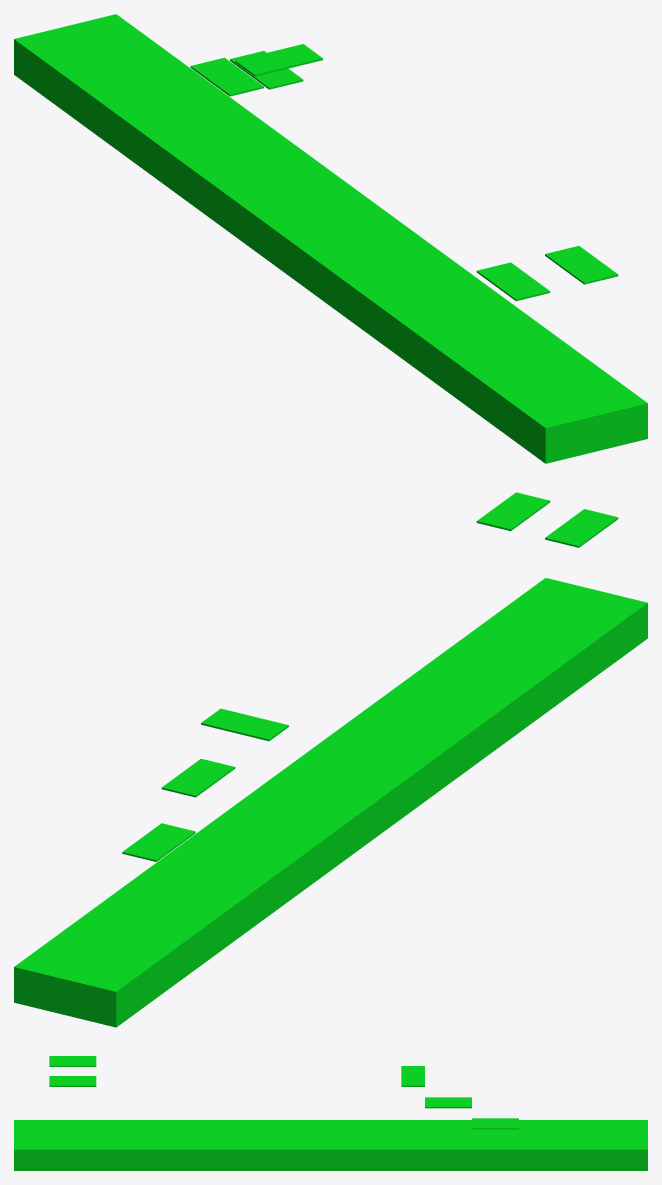
Rendered from scene_0_floor_collisions.glb.
The picture shows the model from 3 angles, top to bottom: view 1: azimuth 30°, elevation 25°; view 2: azimuth 150°, elevation 25°; view 3: azimuth 270°, elevation 25°; orthographic projection. The views are drawn at different scales.
Parts seen in each view (by area): view 1: Cube.015, Cube.000, Cube.013, Cube.017, Cube.018, Cube.014; view 2: Cube.015, Cube.000, Cube.013, Cube.018, Cube.014, Cube.017; view 3: Cube.015, Cube.013, Cube.014, Cube.017, Cube.018, Cube.000.
Part boxes in pixels (box(x1,y1,x2,y2)): Cube.015: box(14, 14, 647, 463); Cube.000: box(235, 44, 322, 76); Cube.013: box(190, 57, 263, 96); Cube.017: box(476, 262, 550, 301); Cube.018: box(545, 246, 618, 284); Cube.014: box(230, 51, 303, 89); Cube.015: box(14, 578, 647, 1027); Cube.000: box(201, 708, 288, 741); Cube.013: box(122, 823, 195, 861); Cube.018: box(476, 492, 550, 531); Cube.014: box(161, 758, 235, 797); Cube.017: box(545, 509, 618, 547); Cube.015: box(14, 1120, 647, 1170); Cube.013: box(472, 1118, 518, 1129); Cube.014: box(425, 1097, 471, 1108); Cube.017: box(49, 1056, 96, 1066); Cube.018: box(49, 1076, 96, 1086); Cube.000: box(401, 1066, 424, 1086).
Size of the model in its own units: 6 by 8 by 54.
